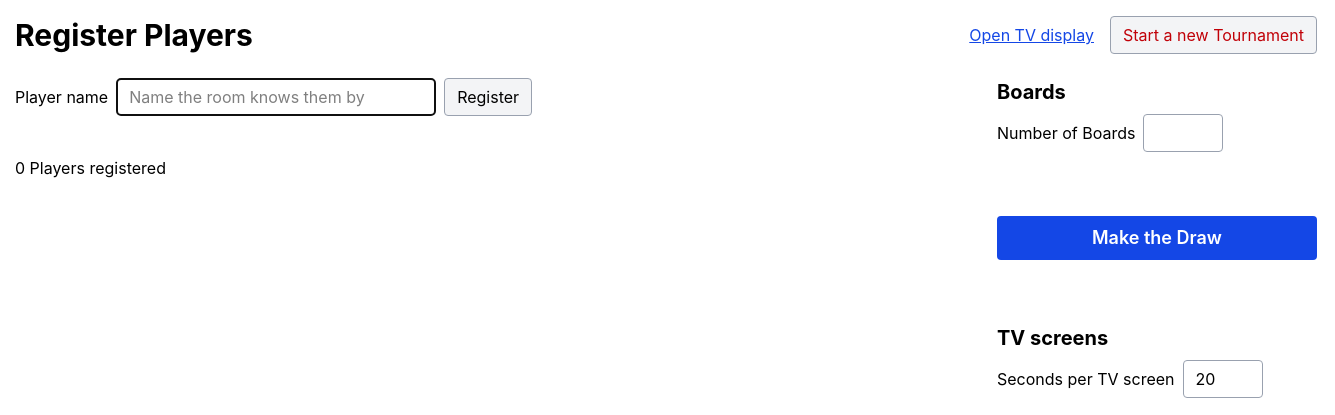
Test: the organizer route › saves the number of Boards only once the Organizer leaves the box or presses Enter
Type "12" into the field labelled "Number of Boards" at [1183, 133], box [1143, 114, 1223, 152]
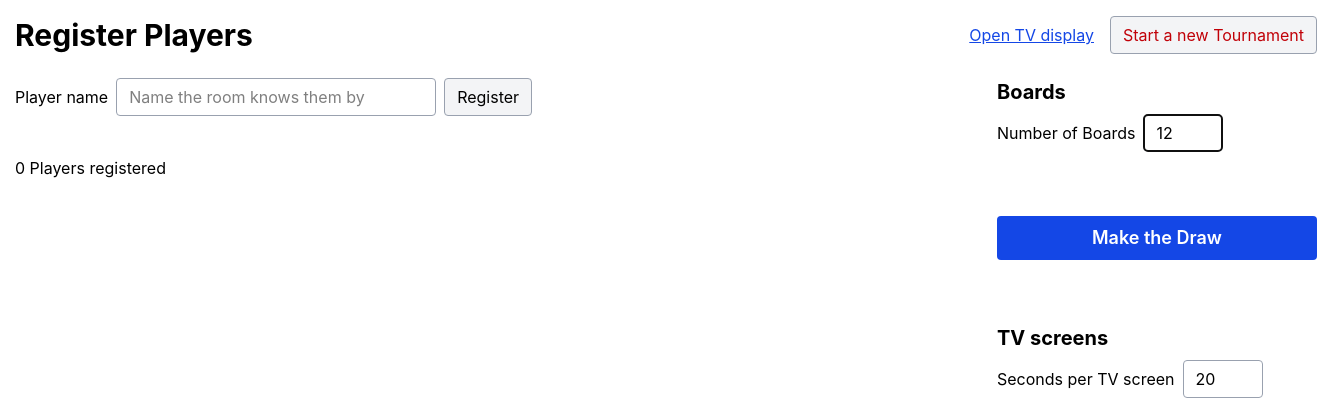
Check: the text "Placards" is not shown
Press Tab
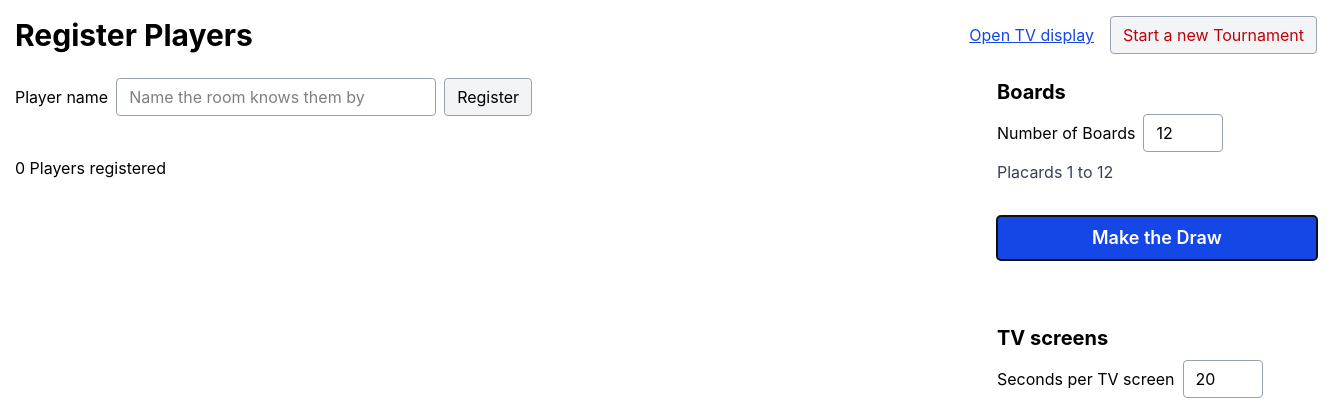
Check: the text "Placards 1 to 12" is shown, box [997, 162, 1113, 182]
Replace the text in the field labelled "Number of Boards" with "15" at [1183, 133], box [1143, 114, 1223, 152]
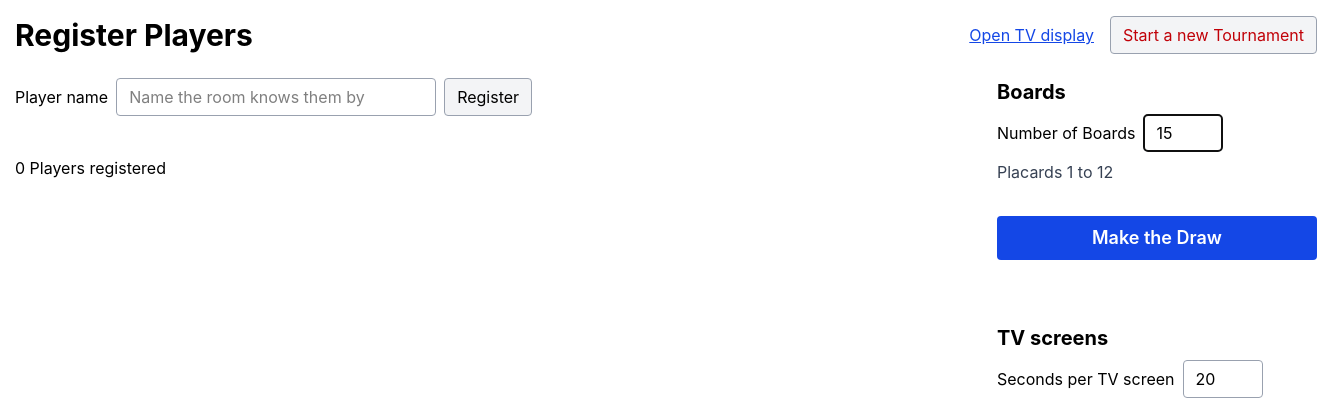
Check: the text "Placards 1 to 12" is shown, box [997, 162, 1113, 182]
Press Enter
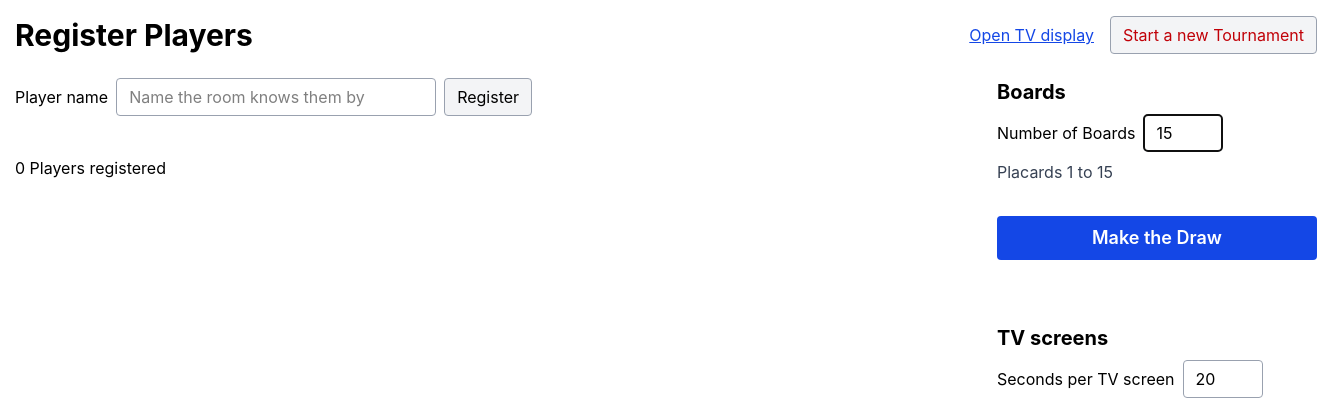
Check: the text "Placards 1 to 15" is shown, box [997, 162, 1113, 182]
